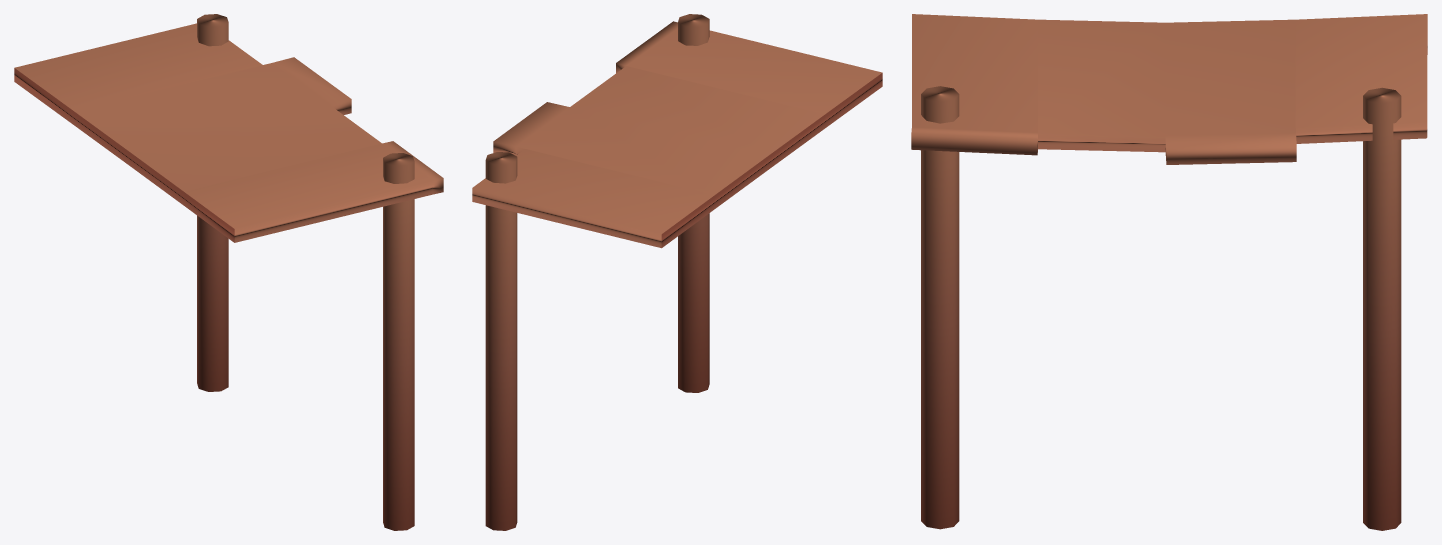
Rendered from WoodScaffolding01.fbx.
3 renders of one model, left to right at view 1: azimuth 30°, elevation 25°; view 2: azimuth 150°, elevation 25°; view 3: azimuth 270°, elevation 25°, orthographic. The views are drawn at different scales.
Parts seen in each view (by area): view 1: WoodScaffolding01; view 2: WoodScaffolding01; view 3: WoodScaffolding01.
Boxes of the visible parts, x1,y1,x2,y2 form: WoodScaffolding01: (14, 14, 443, 530); WoodScaffolding01: (472, 14, 882, 530); WoodScaffolding01: (911, 14, 1427, 530).
Bounding box in the file's own units: 0.5978 × 0.9227 × 1.01.
Materials: 1 (1 with a texture image).
